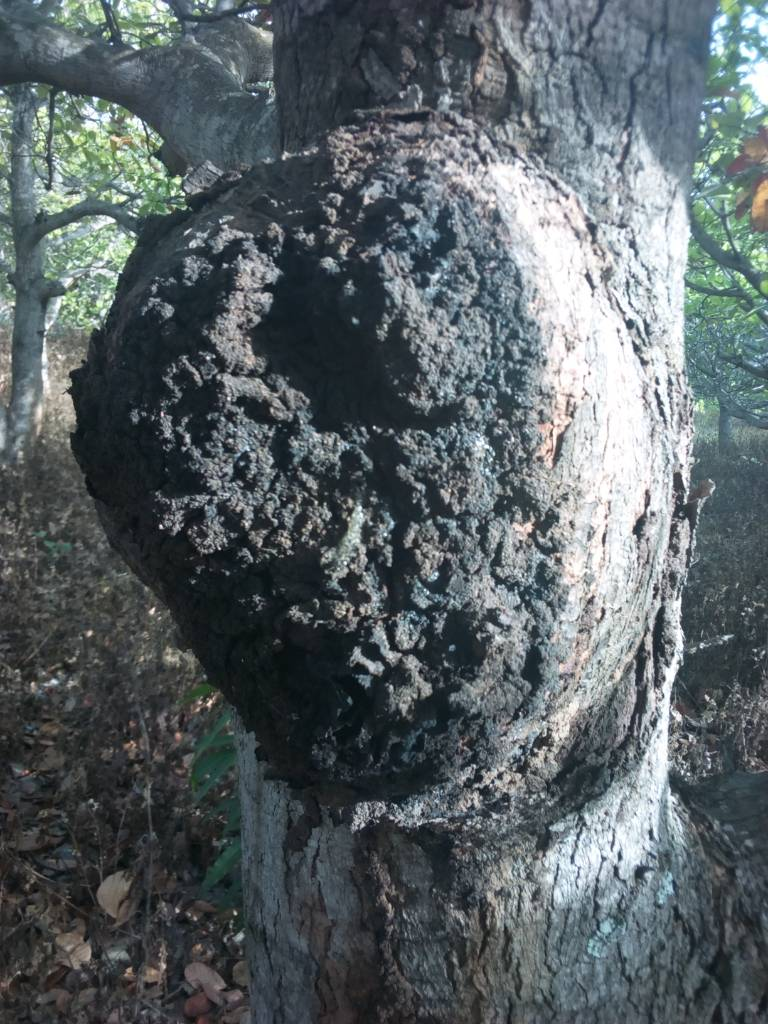Termites: (208, 157, 677, 989)
